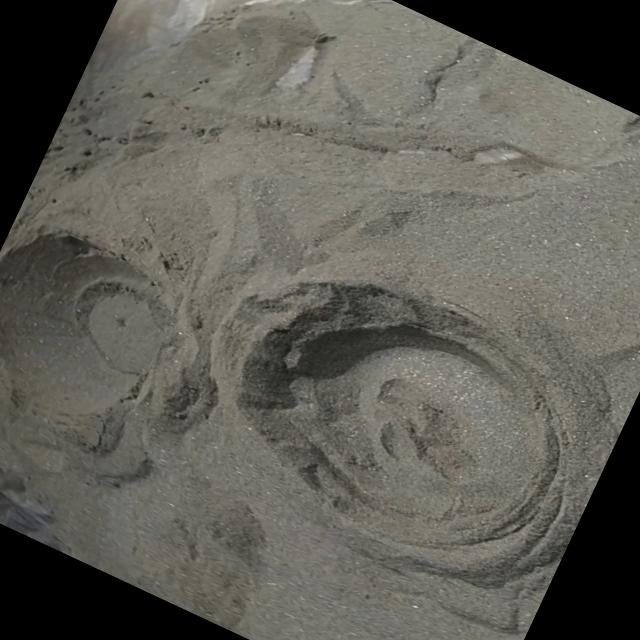C20: (234, 284, 557, 571), (0, 235, 169, 429)
